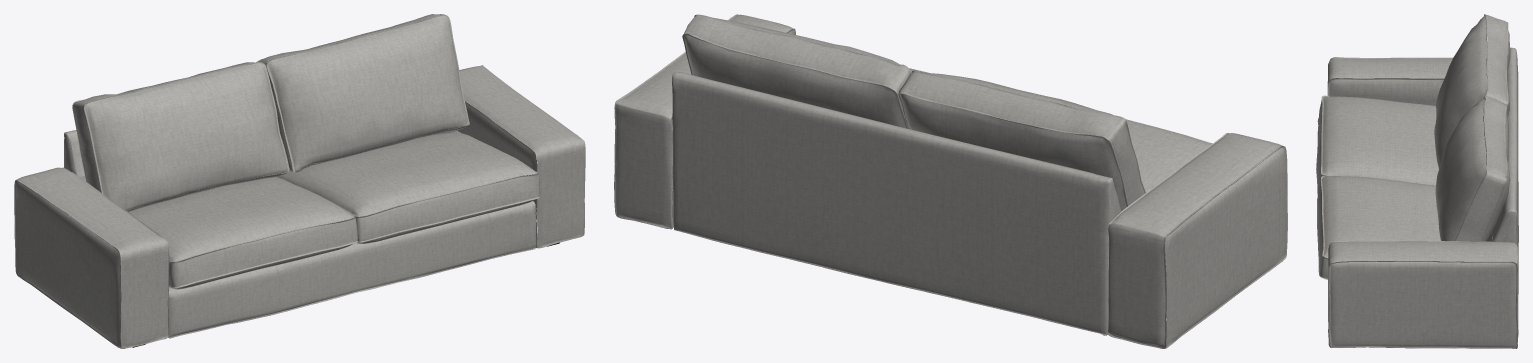
File: 23 - KIVIK 3-seat sofa - Tallmyra whiteblack.glb
3 views of the same model, side by side, from view 1: azimuth 30°, elevation 25°; view 2: azimuth 150°, elevation 25°; view 3: azimuth 270°, elevation 25° (orthographic). The views are drawn at different scales.
Parts seen in each view (by area): view 1: Mesh_0; view 2: Mesh_0; view 3: Mesh_0.
Part boxes in pixels (left/top/right/bottom): Mesh_0: left=14, top=14, right=585, bottom=348; Mesh_0: left=614, top=14, right=1287, bottom=348; Mesh_0: left=1316, top=14, right=1518, bottom=348.
Bounding box in the file's own units: 2.28 × 0.8298 × 0.9496.
Materials: 1 (1 with a texture image).
